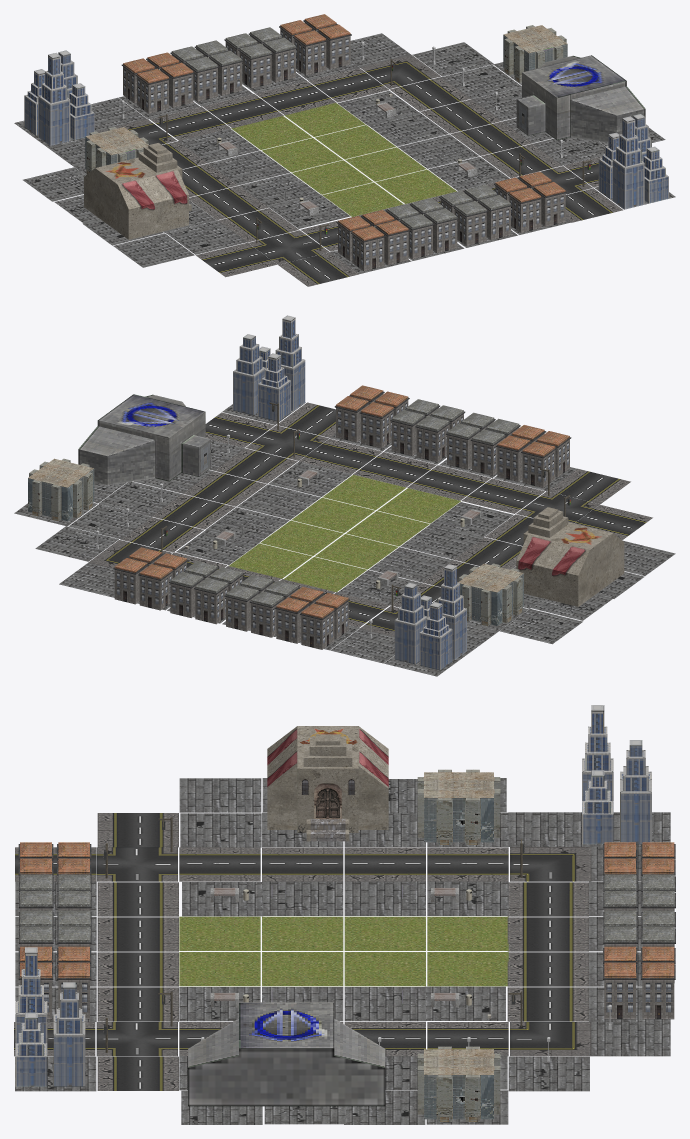
The model's file is SceneFBX.FBX.
3 renders of one model, top to bottom at view 1: azimuth 30°, elevation 25°; view 2: azimuth 150°, elevation 25°; view 3: azimuth 270°, elevation 25°, orthographic. The views are drawn at different scales.
Parts seen in each view (by area): view 1: Box006, Box004, Box005, Box020, Box017, Box016, Box018, Box015, Box019, Box010, Box007, Box012 (+59 smaller); view 2: Box006, Box004, Box020, Box005, Box007, Box031, Box017, Box015, Box016, Box018, Box019, Box010 (+52 smaller); view 3: Box006, Box004, Box007, Box031, Box017, Box008, Plane070, Plane036, Plane014, Plane023, Plane035, Plane039 (+64 smaller).
Part boxes in pixels (left/top/right/bottom): Box006: left=516, top=55, right=645, bottom=142; Box004: left=84, top=143, right=191, bottom=239; Box005: left=336, top=210, right=409, bottom=271; Box020: left=121, top=52, right=194, bottom=113; Box017: left=279, top=14, right=351, bottom=75; Box016: left=494, top=171, right=566, bottom=232; Box018: left=224, top=27, right=297, bottom=88; Box015: left=439, top=184, right=512, bottom=245; Box019: left=170, top=40, right=243, bottom=101; Box010: left=385, top=198, right=458, bottom=259; Box007: left=503, top=25, right=567, bottom=82; Box012: left=612, top=116, right=644, bottom=209; Box006: left=78, top=394, right=210, bottom=485; Box004: left=516, top=507, right=624, bottom=606; Box020: left=275, top=587, right=349, bottom=649; Box005: left=496, top=425, right=571, bottom=487; Box007: left=28, top=458, right=94, bottom=521; Box031: left=458, top=563, right=523, bottom=625; Box017: left=113, top=547, right=188, bottom=610; Box015: left=390, top=399, right=465, bottom=462; Box016: left=334, top=385, right=409, bottom=448; Box018: left=169, top=561, right=244, bottom=624; Box019: left=224, top=574, right=299, bottom=637; Box010: left=445, top=412, right=520, bottom=475; Box006: left=188, top=1002, right=385, bottom=1106; Box004: left=267, top=726, right=388, bottom=841; Box007: left=417, top=1046, right=500, bottom=1121; Box031: left=417, top=769, right=500, bottom=844; Box017: left=603, top=946, right=675, bottom=1019; Box008: left=53, top=982, right=85, bottom=1086; Plane070: left=508, top=1056, right=589, bottom=1091; Plane036: left=179, top=778, right=261, bottom=812; Plane014: left=179, top=952, right=260, bottom=986; Plane023: left=179, top=916, right=260, bottom=950; Plane035: left=180, top=813, right=261, bottom=847; Plane039: left=427, top=847, right=508, bottom=881.
Bounding box in the file's own units: 1291 × 199 × 1041.
